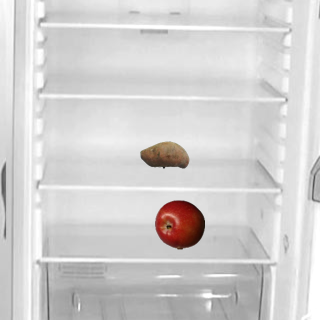Apple Braeburn: (154, 199, 204, 249)
Potato Sweet: (139, 129, 189, 179)
